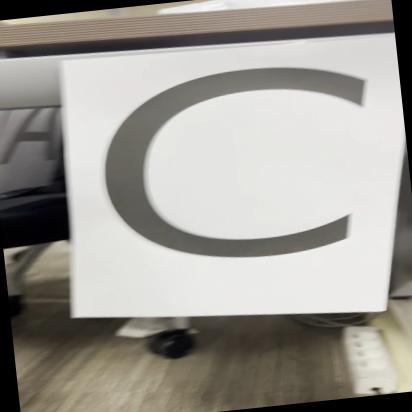seat: (66, 33, 395, 322)
